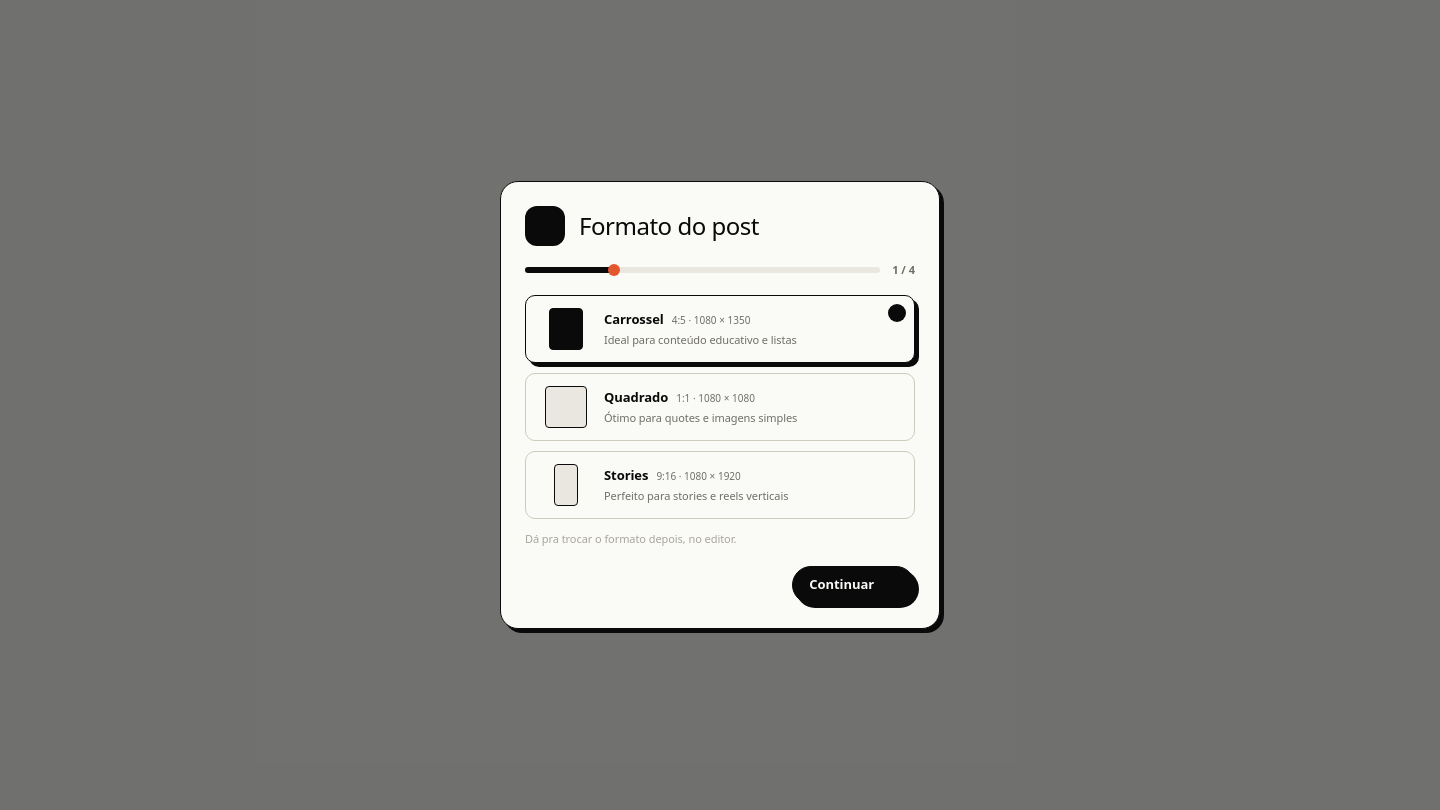
Test: CreateWizard — 4 etapas › o denominador do contador troca por um nó novo, para poder animar
Click the button "Continuar" at (854, 585), box [792,566,915,604]
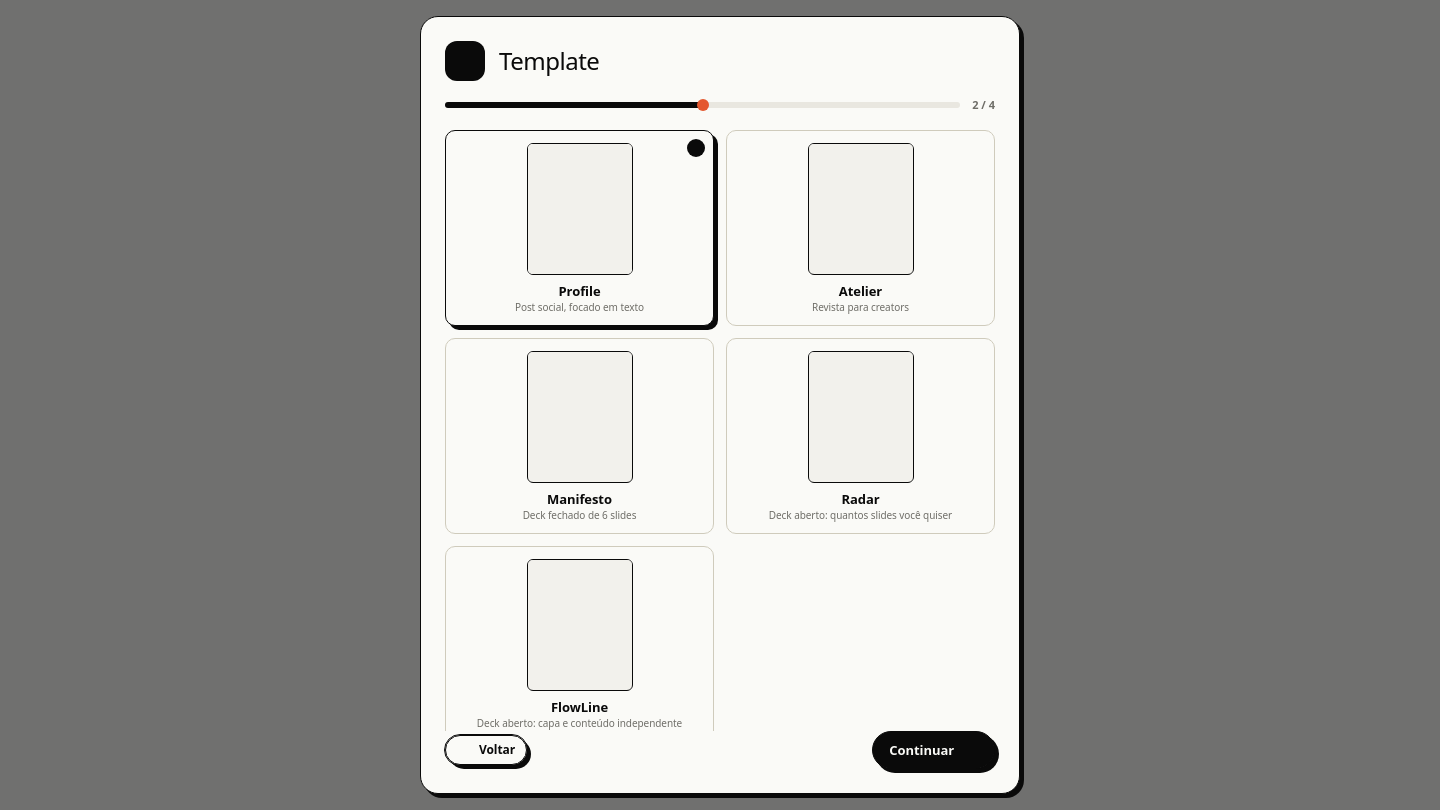
Click the text "Atelier" at (860, 290), box [839,282,882,300]
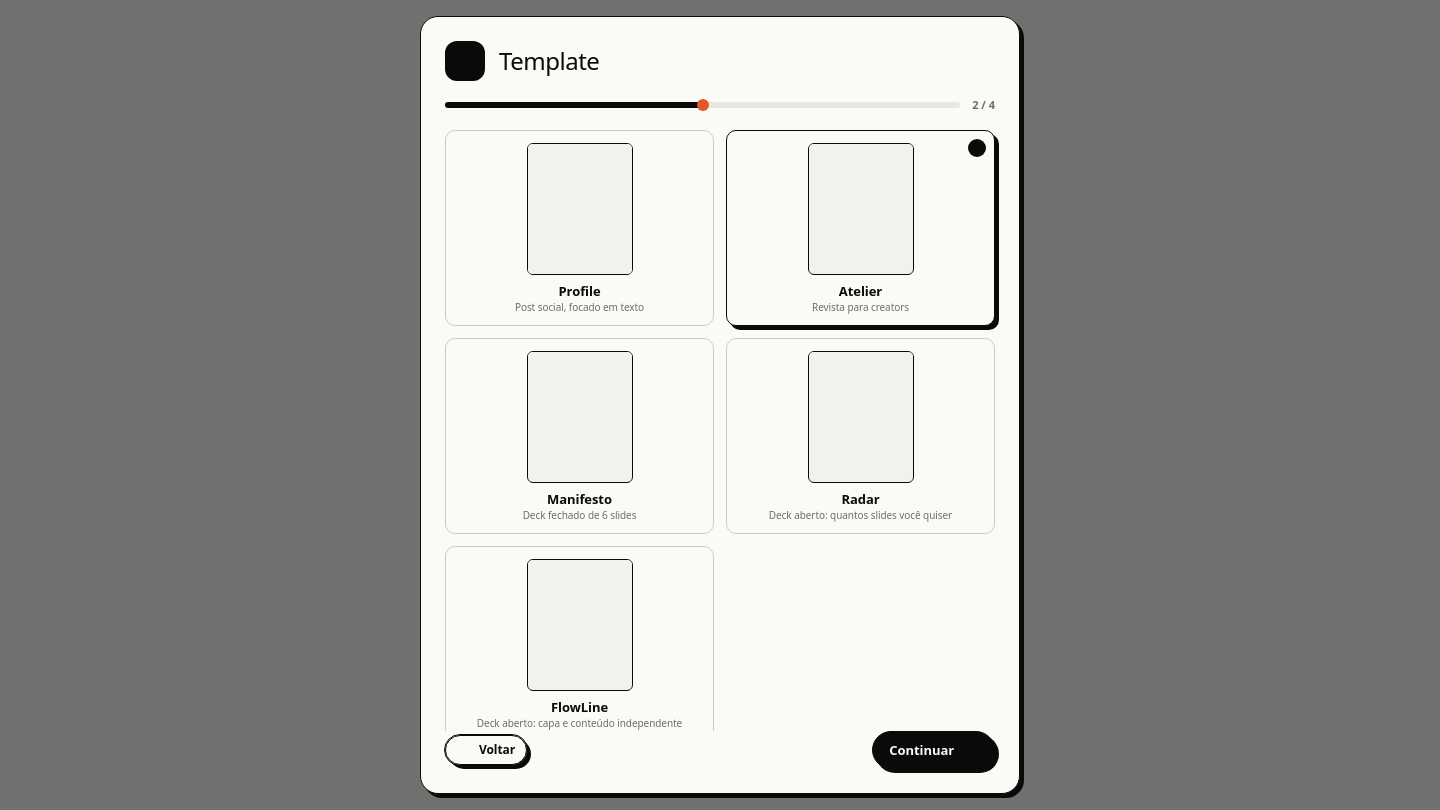
Click the button "Continuar" at (934, 750), box [872,731,995,769]
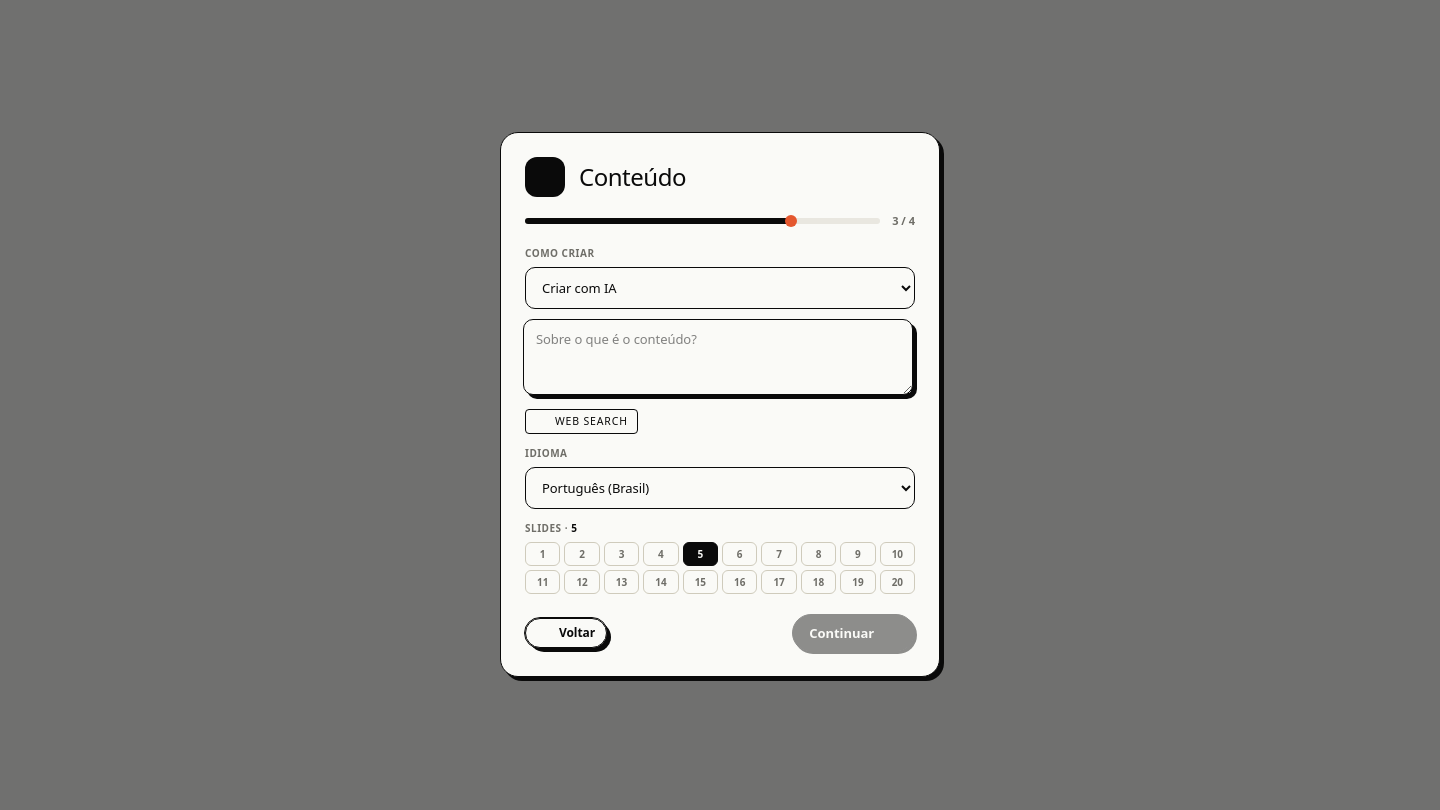
Expected: the text with class "cw-total-swap" reads "4", [909,213,915,228]
Click the button "Voltar" at (566, 634), box [525,619,607,649]
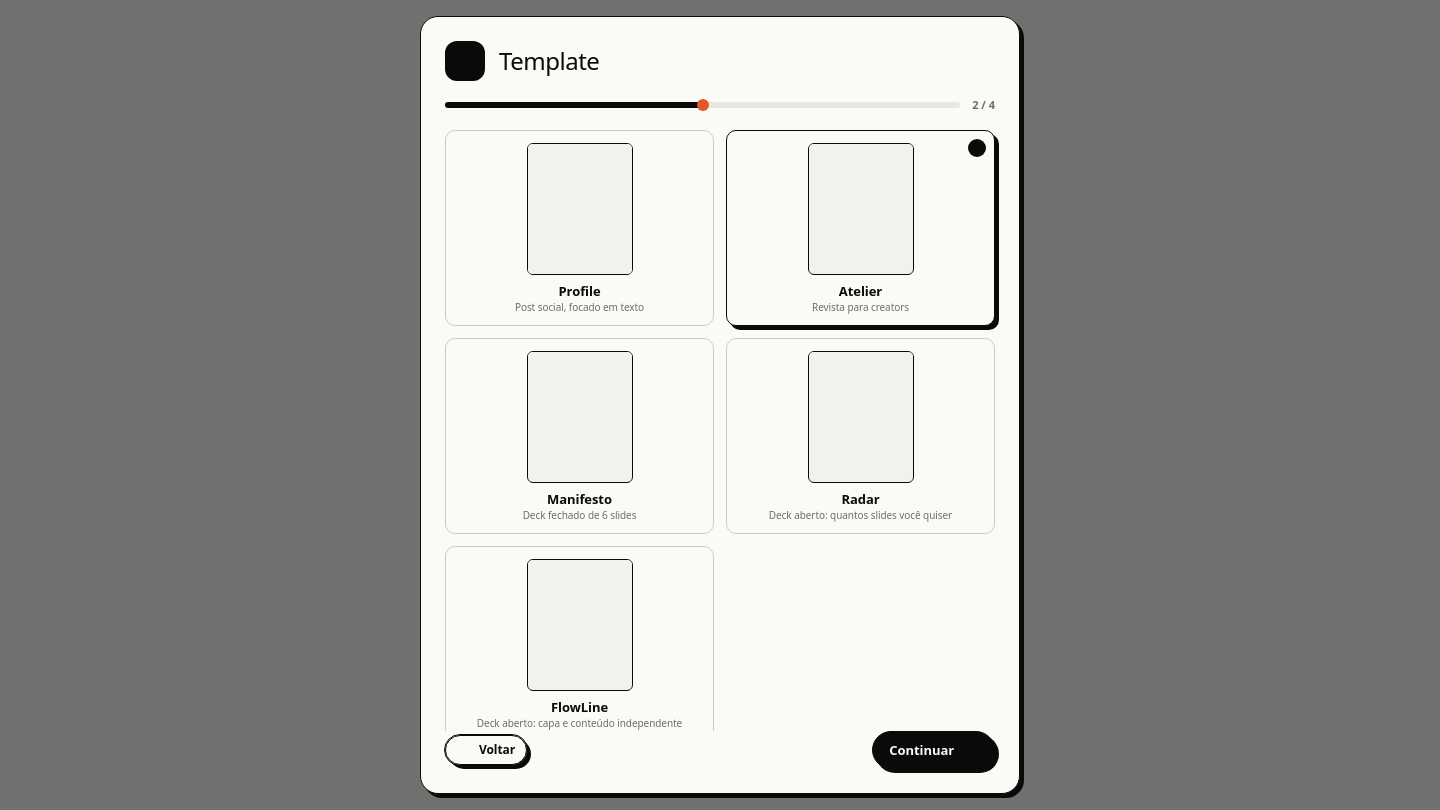
Click the text "Manifesto" at (580, 498), box [547,490,612,508]
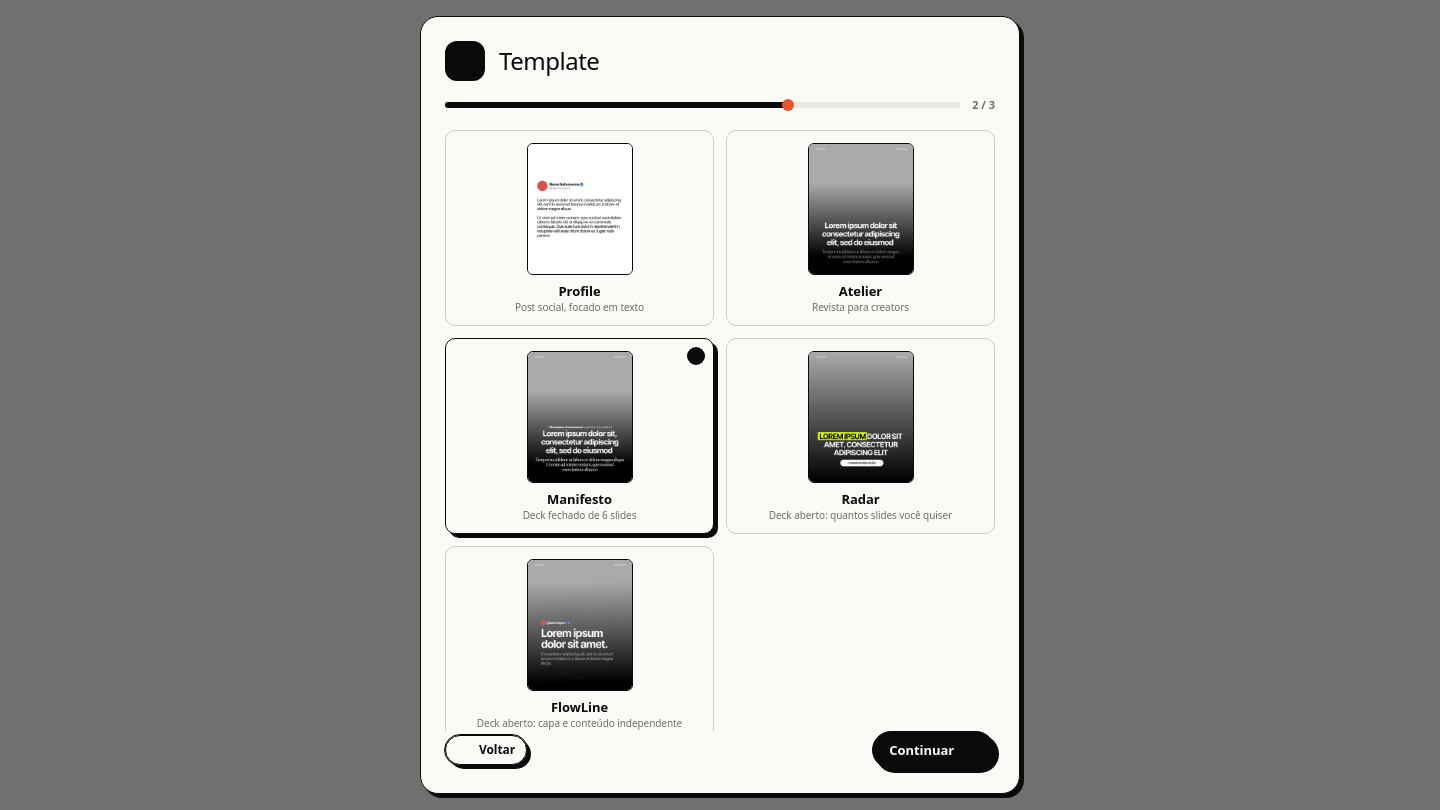
Now the text with class "cw-total-swap" reads "3", box [989,97,995,112]
